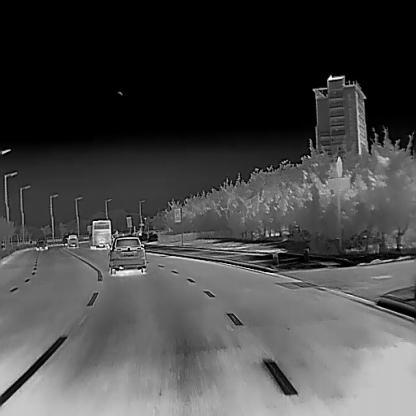car: (108, 236, 147, 276), (88, 218, 111, 249), (35, 236, 48, 250), (67, 233, 78, 246)
